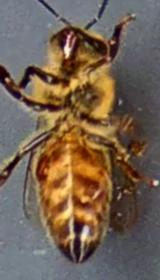varroa_mite: (23, 145, 54, 185)
